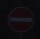No entry: (6, 5, 35, 34)
